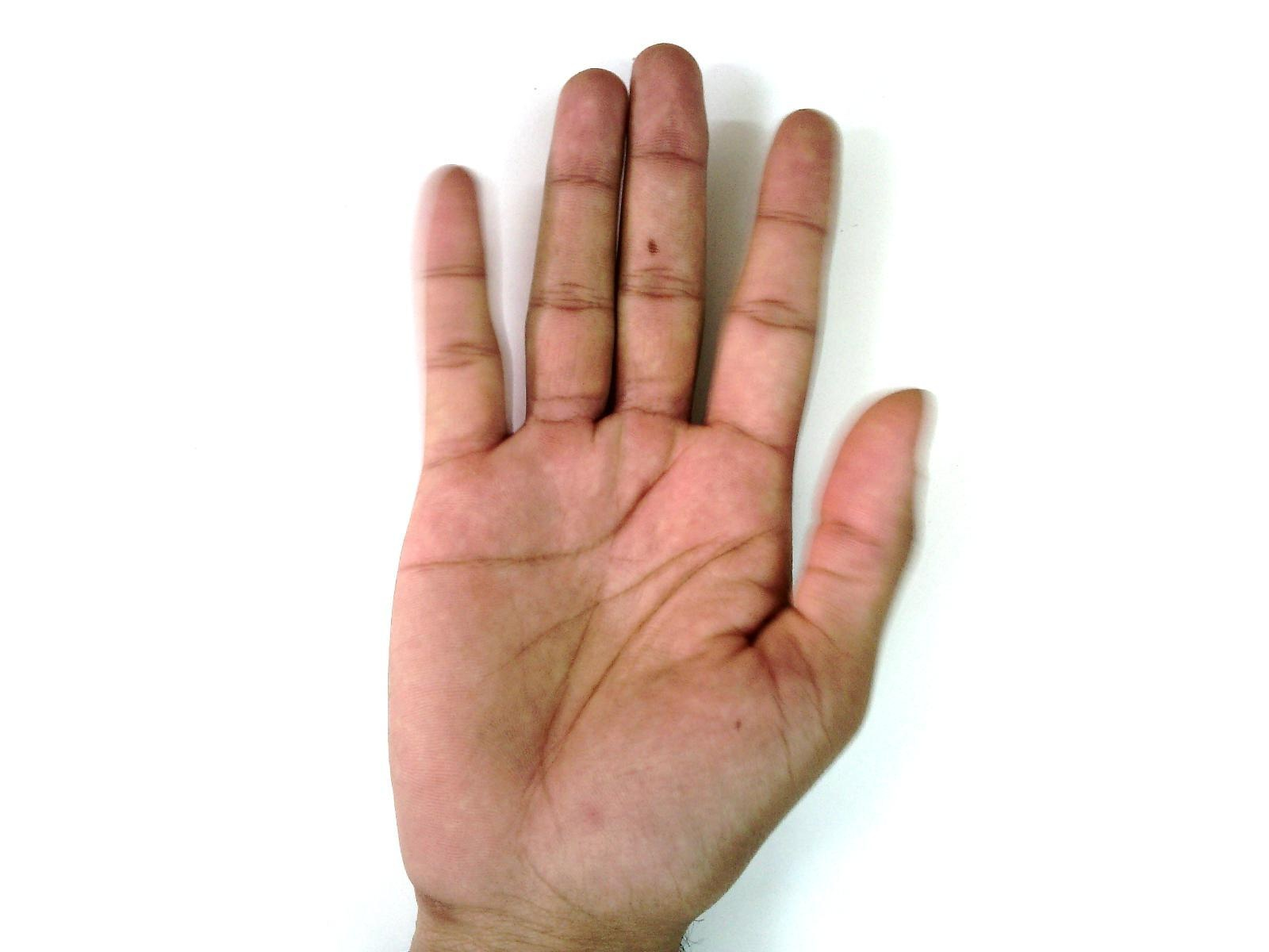open_palm: (383, 42, 940, 934)
